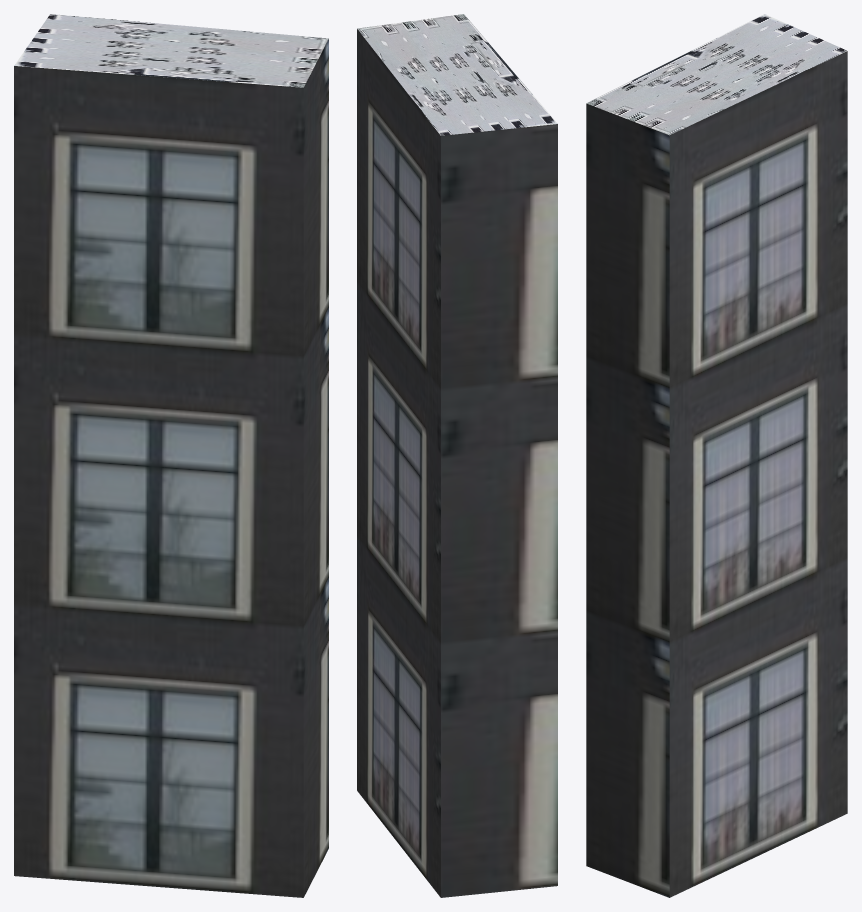
File: ResTex__4362.fbx
3 renders of one model, left to right at view 1: azimuth 30°, elevation 25°; view 2: azimuth 150°, elevation 25°; view 3: azimuth 270°, elevation 25°, orthographic. The views are drawn at different scales.
Visible parts, largest first — view 1: CityEngineMaterial_22_m, CityEngineMaterial_4_m; view 2: CityEngineMaterial_22_m, CityEngineMaterial_4_m; view 3: CityEngineMaterial_22_m, CityEngineMaterial_4_m.
Part boxes in pixels (left/top/right/bottom): CityEngineMaterial_22_m: left=14, top=39, right=328, bottom=897; CityEngineMaterial_4_m: left=14, top=14, right=328, bottom=87; CityEngineMaterial_22_m: left=357, top=29, right=557, bottom=897; CityEngineMaterial_4_m: left=357, top=14, right=557, bottom=135; CityEngineMaterial_22_m: left=586, top=51, right=847, bottom=897; CityEngineMaterial_4_m: left=586, top=14, right=847, bottom=135.
Size of the model in its own units: 3.07 by 9 by 2.8.
2 materials, 2 textured.
